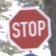stopsign: (9, 7, 51, 51)
